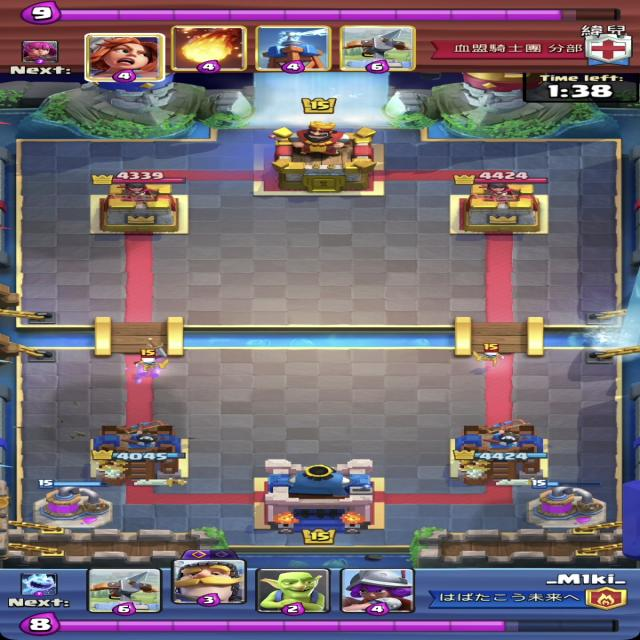Enemy-Skeleton: (133, 348, 171, 375), (473, 343, 505, 365)
Player-ElixirPump: (29, 480, 116, 530), (525, 479, 611, 529)
